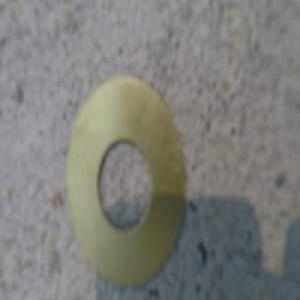Washer: (69, 81, 185, 281)
